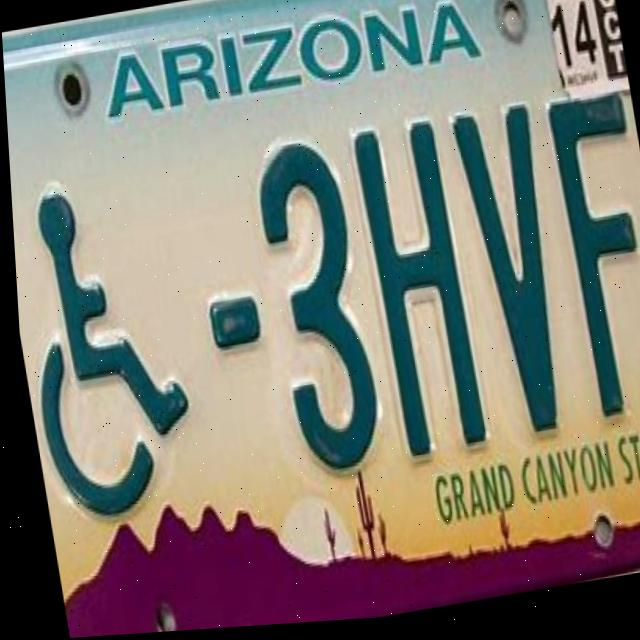symbol_of_access: (8, 166, 203, 530)
